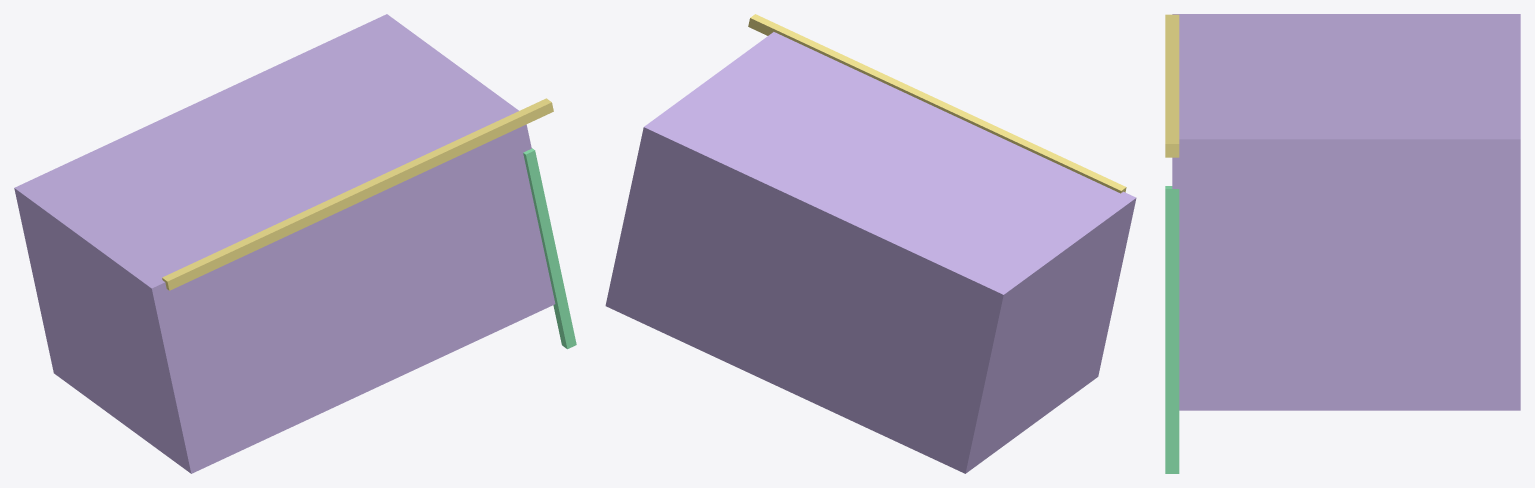
File: parallelepiped.glb
3 views of the same model, side by side, from view 1: azimuth 30°, elevation 25°; view 2: azimuth 150°, elevation 25°; view 3: azimuth 270°, elevation 25° (orthographic). The views are drawn at different scales.
Visible parts, largest first — view 1: parallelepiped, a_edge, b_edge; view 2: parallelepiped, a_edge; view 3: parallelepiped, b_edge, a_edge.
Boxes of the visible parts, x1,y1,x2,y2 form: parallelepiped: (14,14,555,473); a_edge: (162,98,553,290); b_edge: (523,148,576,349); parallelepiped: (605,32,1136,473); a_edge: (748,14,1126,193); parallelepiped: (1172,14,1520,410); b_edge: (1165,186,1179,473); a_edge: (1165,14,1179,157).
Size of the model in its own units: 1.51 by 0.9794 by 0.8697.
